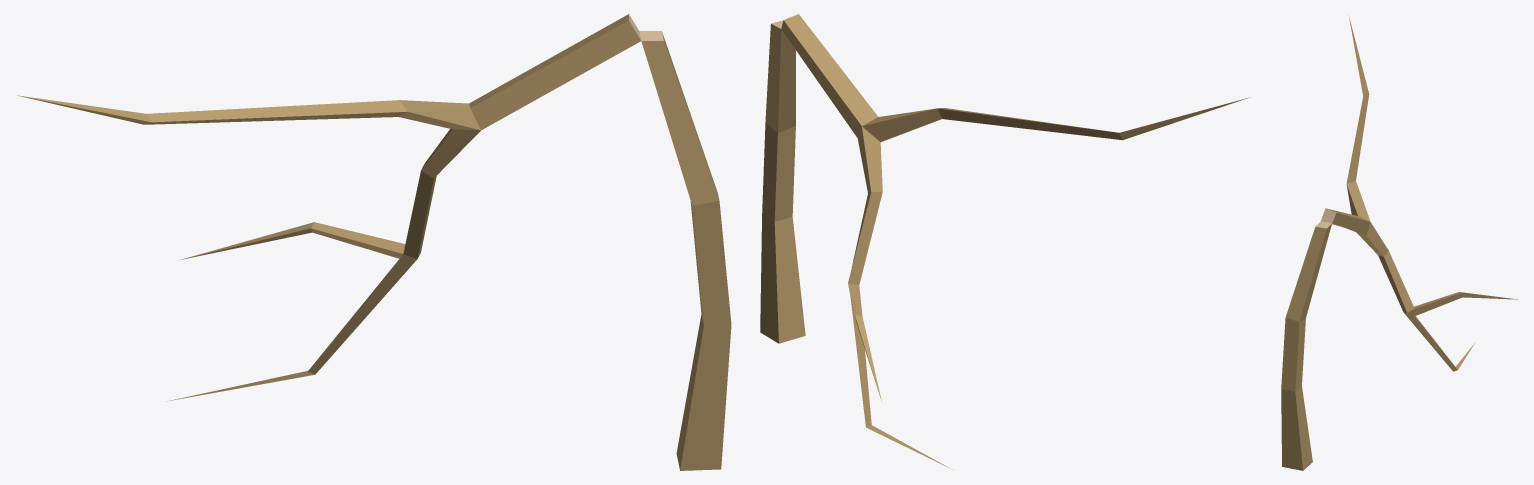
The model's file is Random_Tree_NoLeaves_crk_s_BT_02.fbx.
3 renders of one model, left to right at view 1: azimuth 30°, elevation 25°; view 2: azimuth 150°, elevation 25°; view 3: azimuth 270°, elevation 25°, orthographic. The views are drawn at different scales.
Parts seen in each view (by area): view 1: Random_Tree_NoLeaves_crk_s_BT_02; view 2: Random_Tree_NoLeaves_crk_s_BT_02; view 3: Random_Tree_NoLeaves_crk_s_BT_02.
Boxes of the visible parts, bbox=[...] form: Random_Tree_NoLeaves_crk_s_BT_02: bbox=[17, 14, 731, 470]; Random_Tree_NoLeaves_crk_s_BT_02: bbox=[760, 14, 1249, 469]; Random_Tree_NoLeaves_crk_s_BT_02: bbox=[1281, 15, 1517, 470].
Bounding box in the file's own units: 174 × 122 × 95.95.
